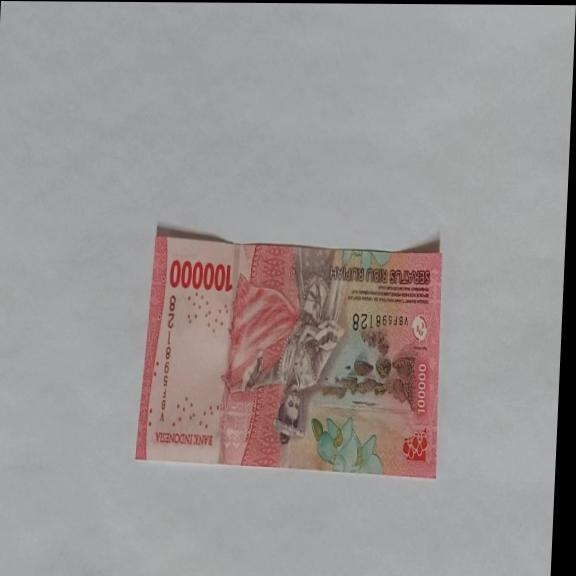Kertas: (168, 257, 234, 294)
